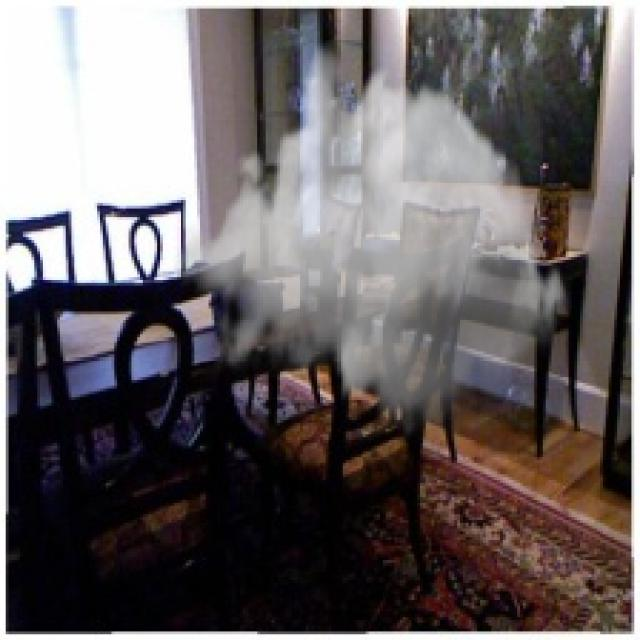smoke: (174, 37, 569, 443)
